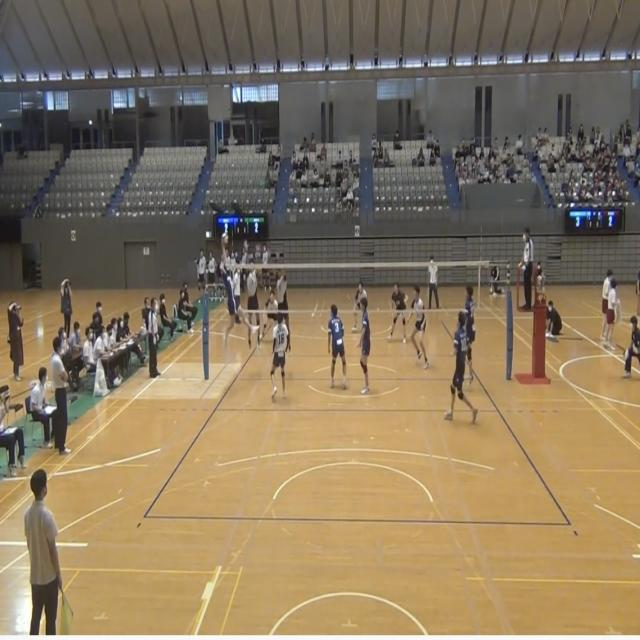spike: (213, 230, 263, 349)
